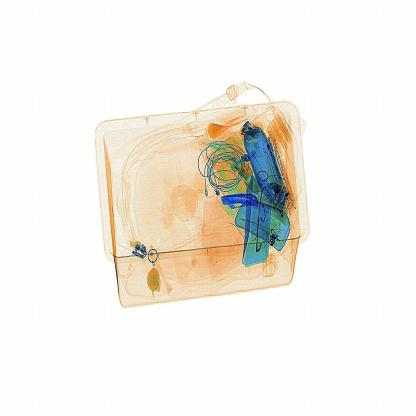knife: (214, 182, 265, 215)
